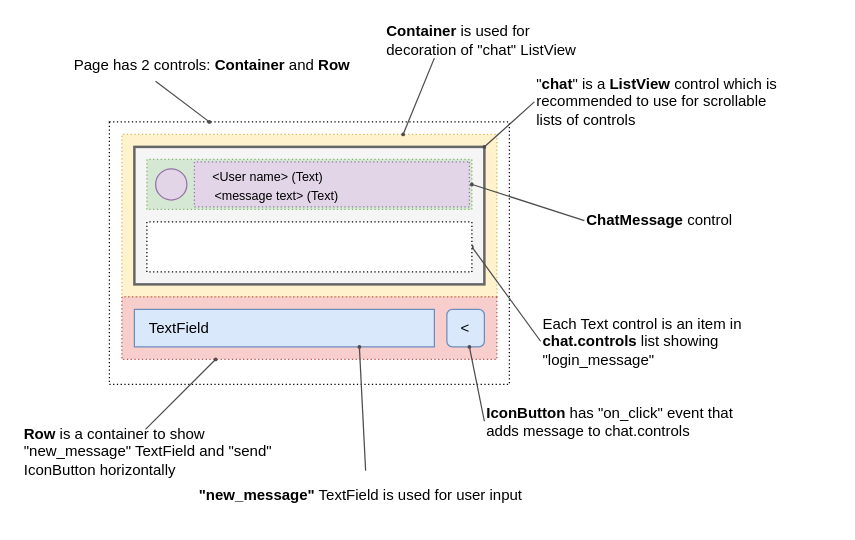
This 855x540 diagram has some shape labels left out. Here are the shapes that lost their labels. From the top down, the box of each, then its label:
(154, 168, 187, 200): JS
(146, 221, 472, 272): Text
